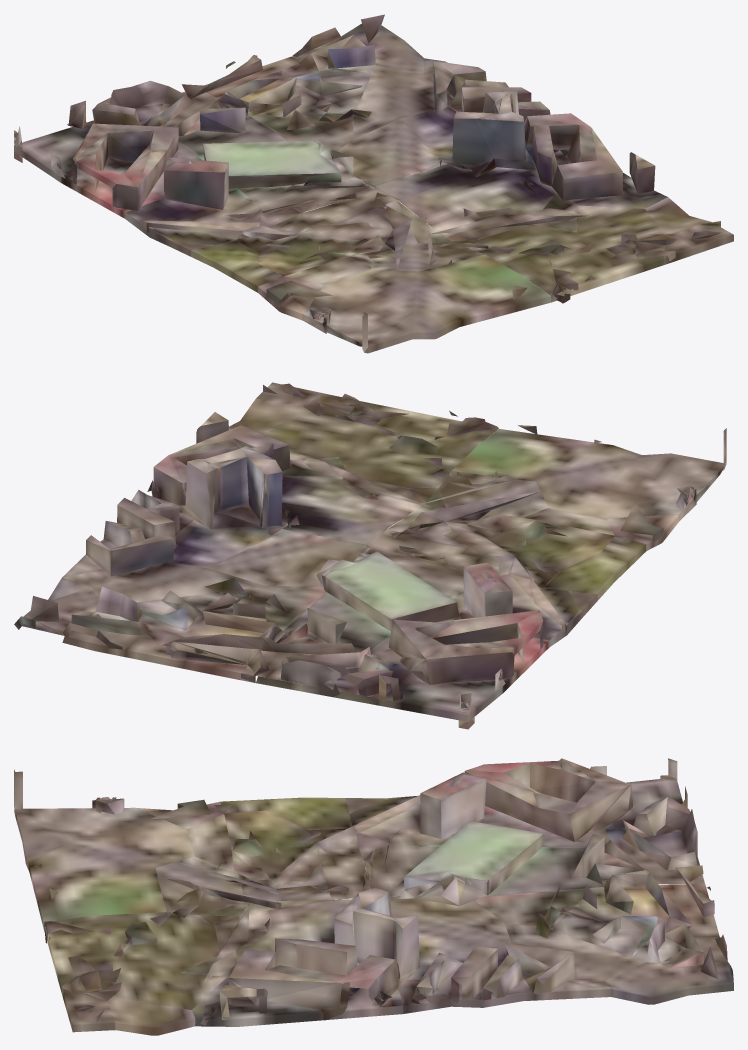
3 renders of one model, top to bottom at view 1: azimuth 30°, elevation 25°; view 2: azimuth 150°, elevation 25°; view 3: azimuth 270°, elevation 25°, orthographic. The views are drawn at different scales.
Parts seen in each view (by area): view 1: Mesh_0; view 2: Mesh_0; view 3: Mesh_0.
Part boxes in pixels (x1,y1,x2,y2): Mesh_0: (14, 14, 733, 353); Mesh_0: (14, 382, 726, 729); Mesh_0: (14, 758, 733, 1035).
Bounding box in the file's own units: 533 × 79.04 × 660.
Materials: 1 (1 with a texture image).
